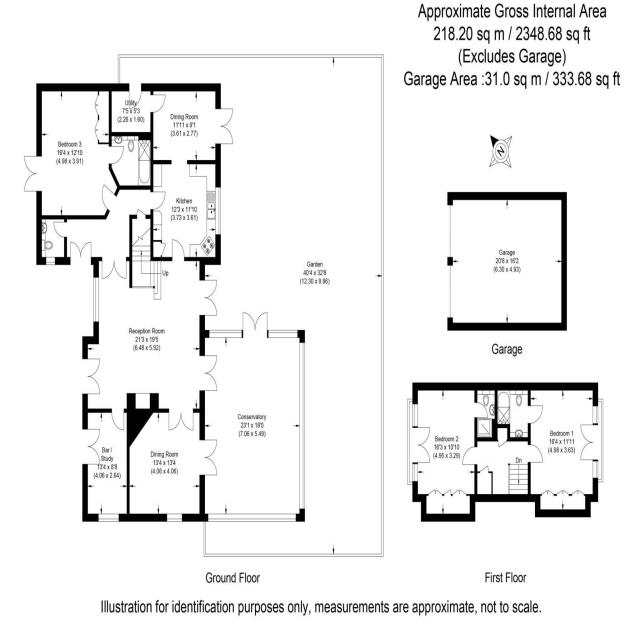DOOR: (101, 184, 117, 213), (128, 83, 142, 110), (528, 404, 544, 425), (111, 408, 125, 431), (171, 238, 185, 261), (527, 444, 543, 464), (109, 145, 125, 165), (150, 191, 166, 210), (150, 94, 166, 113), (462, 446, 478, 465), (474, 402, 488, 419), (53, 221, 67, 238)
DOUBLE DOOR: (199, 277, 220, 319), (199, 434, 219, 478), (81, 426, 102, 467), (199, 352, 219, 393), (215, 105, 234, 147), (578, 423, 599, 461), (82, 356, 101, 396), (23, 154, 42, 193), (412, 426, 431, 465), (100, 257, 129, 282), (167, 407, 195, 432), (69, 238, 94, 266)
ROOM: (81, 219, 219, 434), (151, 83, 235, 265), (24, 83, 124, 220), (412, 382, 488, 522), (126, 408, 218, 522), (528, 382, 598, 518), (82, 408, 130, 522)
WINDOW: (215, 187, 221, 235), (93, 277, 99, 323), (98, 513, 119, 522), (166, 513, 182, 522), (46, 257, 56, 265)
